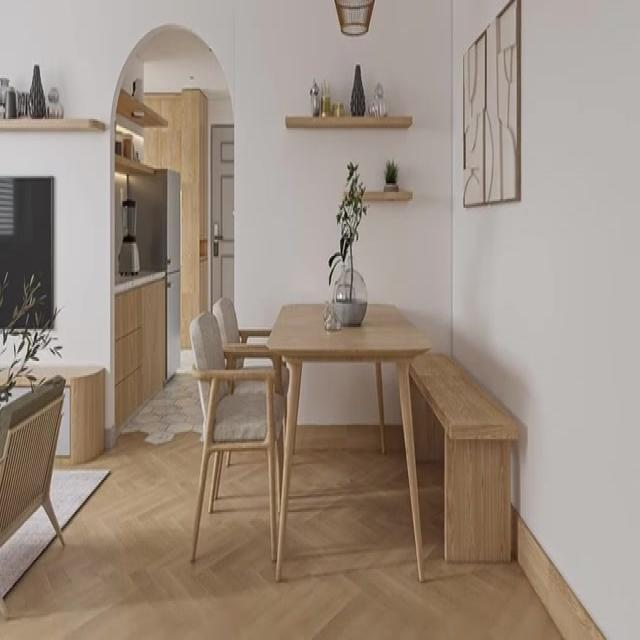door: (209, 123, 234, 313)
obstacle: (264, 301, 431, 584), (189, 314, 285, 570), (124, 165, 182, 382)
